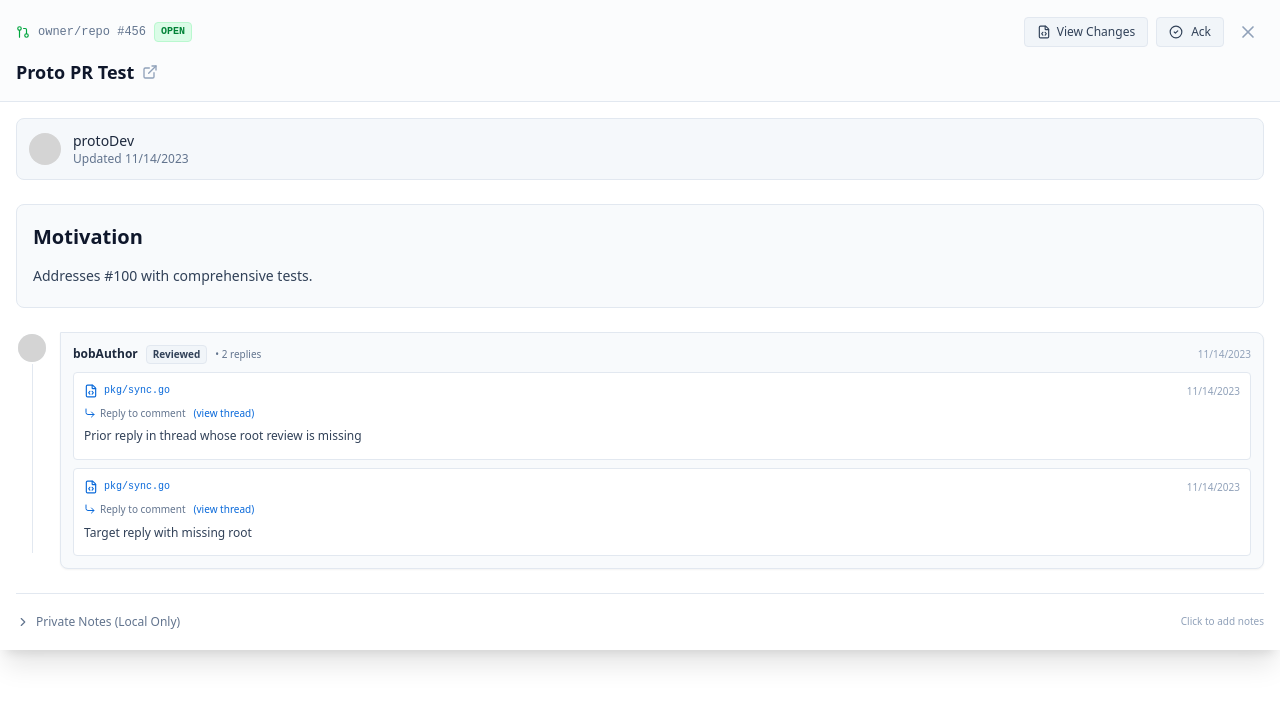
Scenario: DetailsPane Component › Review Comment Thread Expansion and Timestamp Links › renders "view full thread on GitHub" link pointing to the PR files view when rootMissing is true
The image size is (1280, 720).
Click the 2nd button "(view thread)" at (224, 509), box top-left (194, 501), bottom-right (254, 518)
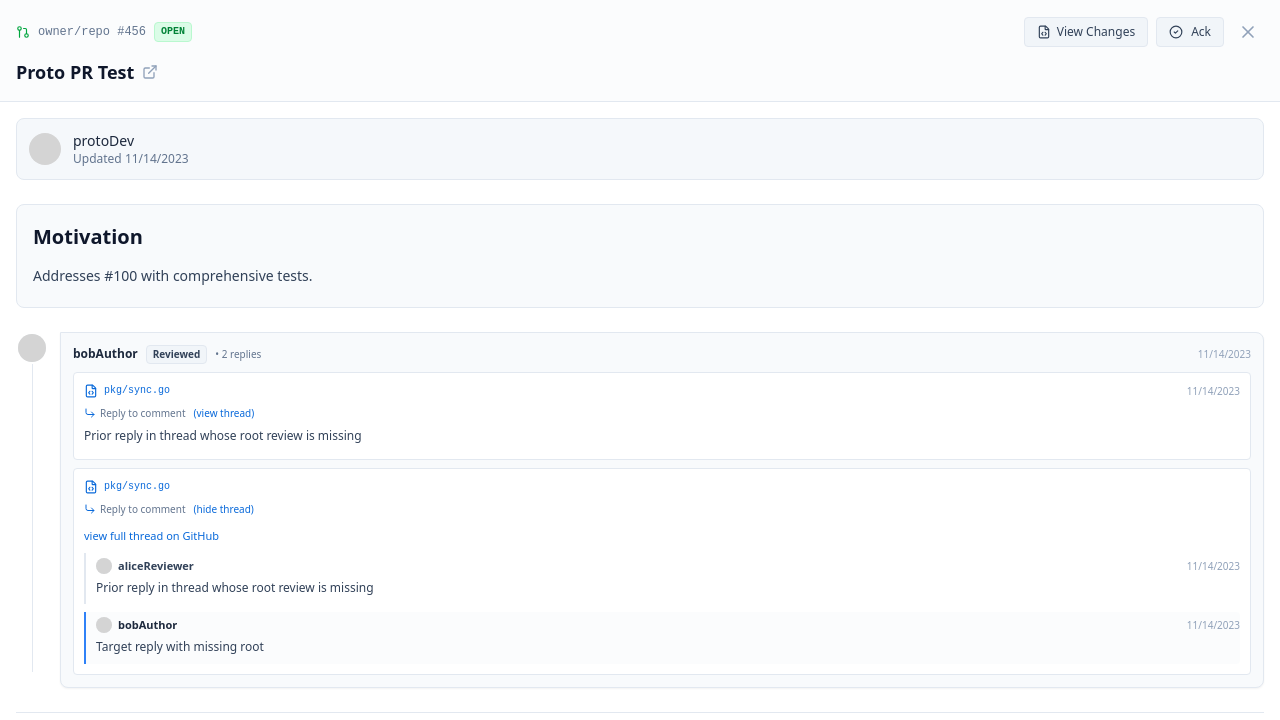
expect the link "view full thread on GitHub" is shown: met, box top-left (84, 526), bottom-right (219, 544)
expect the number of elements with test id "review-thread-comment" is 2: met, box top-left (84, 553), bottom-right (1240, 604); top-left (84, 612), bottom-right (1240, 664)
expect the element with test id "review-thread-comment" shows "Prior reply in thread whose root review is missing": met, box top-left (96, 579), bottom-right (374, 596)
